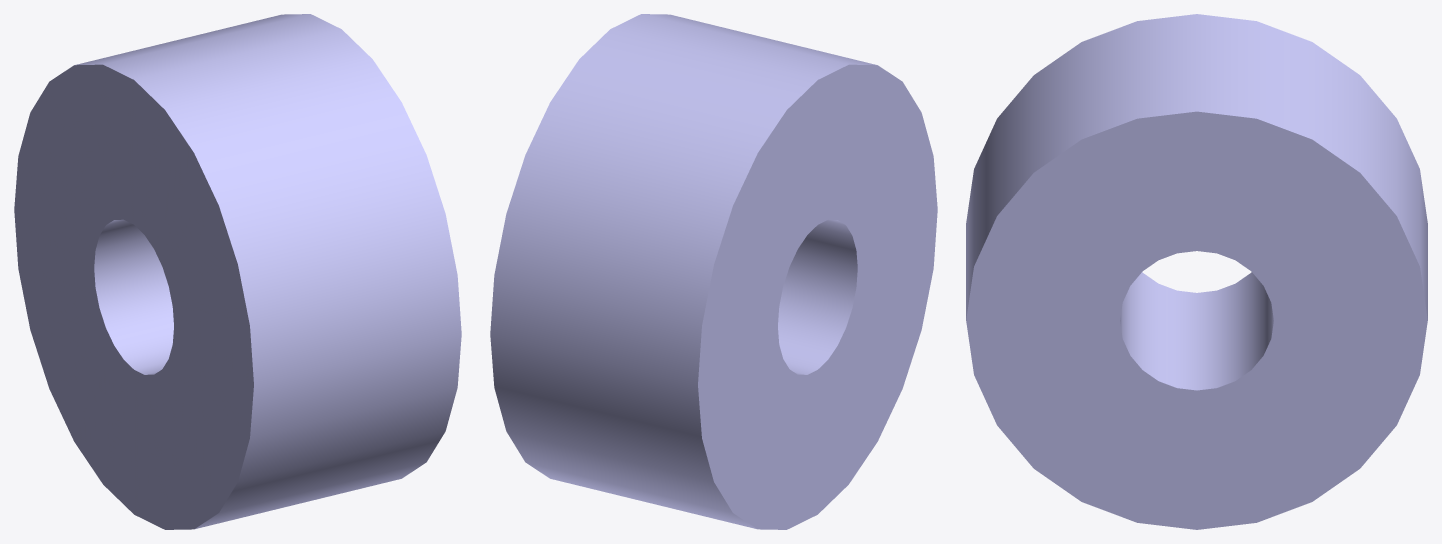
Rendered from OPPPSupportJoin.gltf.
3 views of the same model, side by side, from view 1: azimuth 30°, elevation 25°; view 2: azimuth 150°, elevation 25°; view 3: azimuth 270°, elevation 25° (orthographic). The views are drawn at different scales.
Visible parts, largest first — view 1: logicOPPPSupportJoin_pv0x2276a48; view 2: logicOPPPSupportJoin_pv0x2276a48; view 3: logicOPPPSupportJoin_pv0x2276a48.
Part boxes in pixels (x1,y1,x2,y2): logicOPPPSupportJoin_pv0x2276a48: (14,14,461,529); logicOPPPSupportJoin_pv0x2276a48: (490,14,937,529); logicOPPPSupportJoin_pv0x2276a48: (966,14,1427,529).
Size of the model in its own units: 1.5 by 3 by 3.
